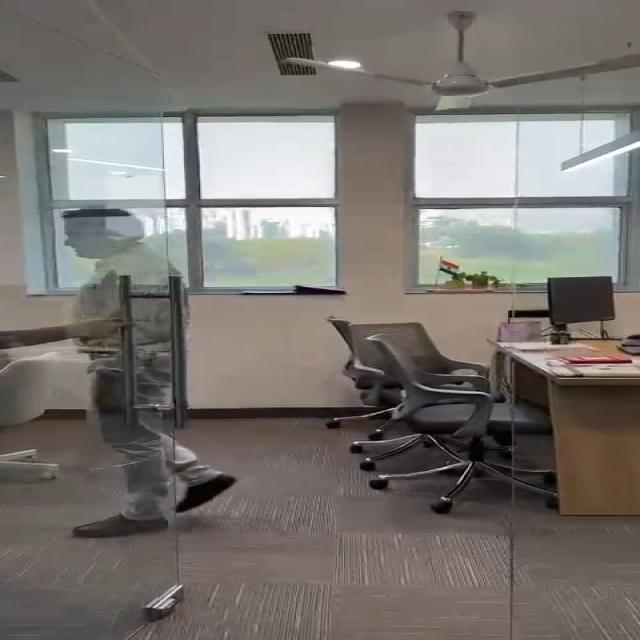floor: (0, 519, 640, 640)
furniture: (310, 313, 526, 506), (0, 327, 68, 492), (531, 269, 629, 356)
moving_object: (59, 199, 247, 530)
wall: (0, 110, 640, 212)
